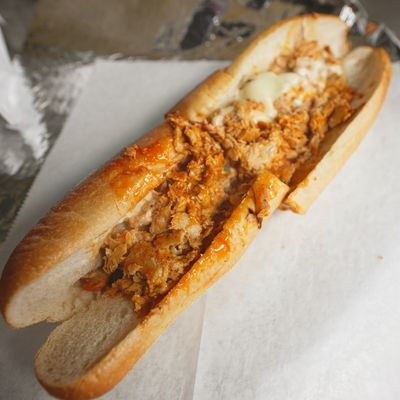sandwich: (0, 5, 389, 385)
